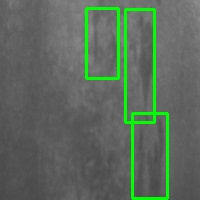inclusion: (125, 10, 154, 122), (132, 113, 167, 198), (86, 8, 118, 78)
